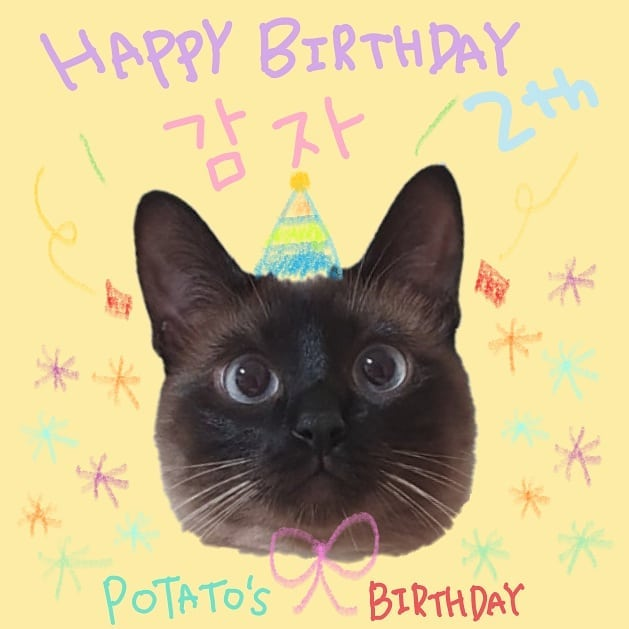cat: (132, 162, 486, 561)
